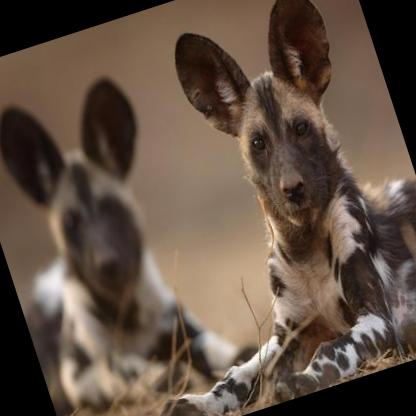African_hunting_dog: (44, 0, 416, 416), (0, 54, 244, 416)
